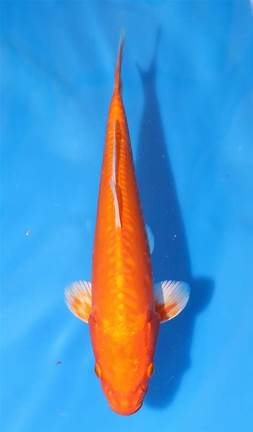red: (64, 29, 190, 416)
